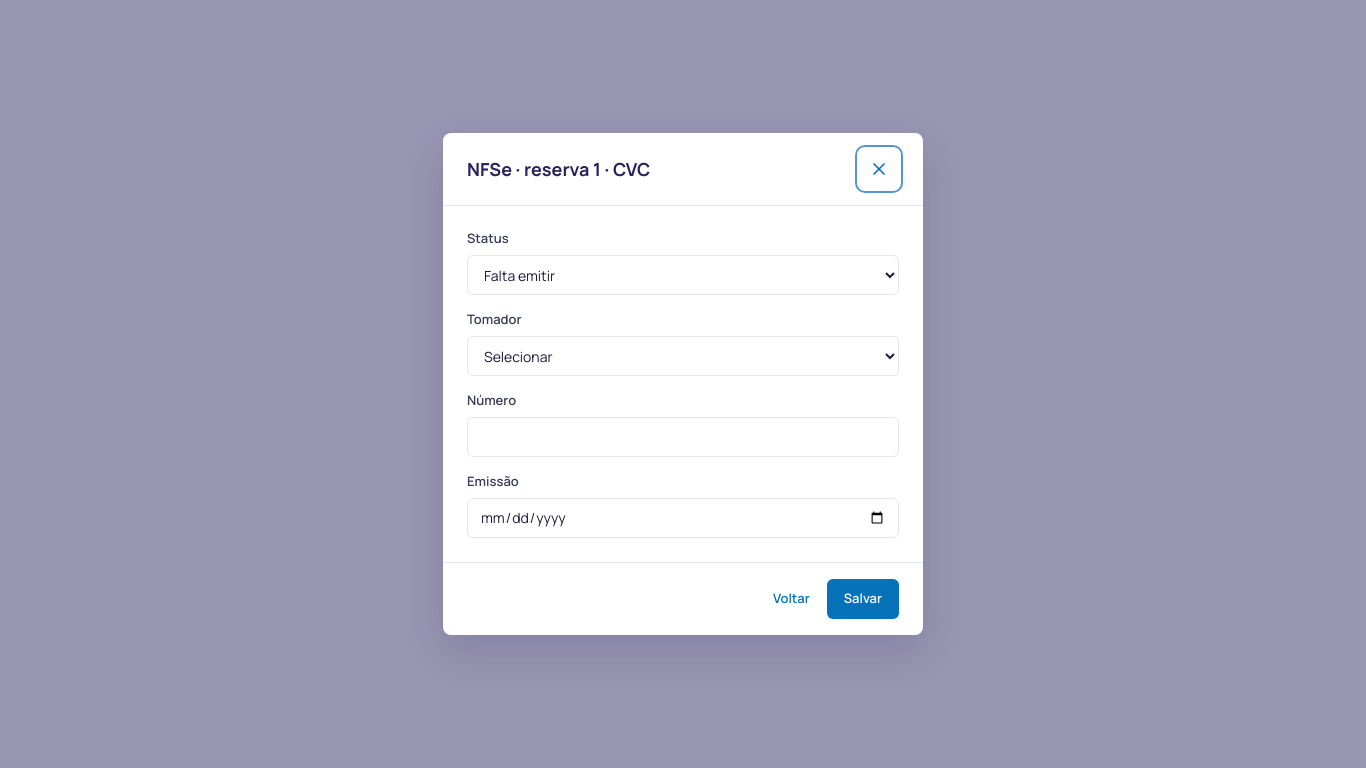
Scenario: 422 nfse_incompleta mostra a mensagem do servidor
Step 1. Select "Emitida" in the dropdown labelled "Status" → (683, 275), box [467,255,899,295]
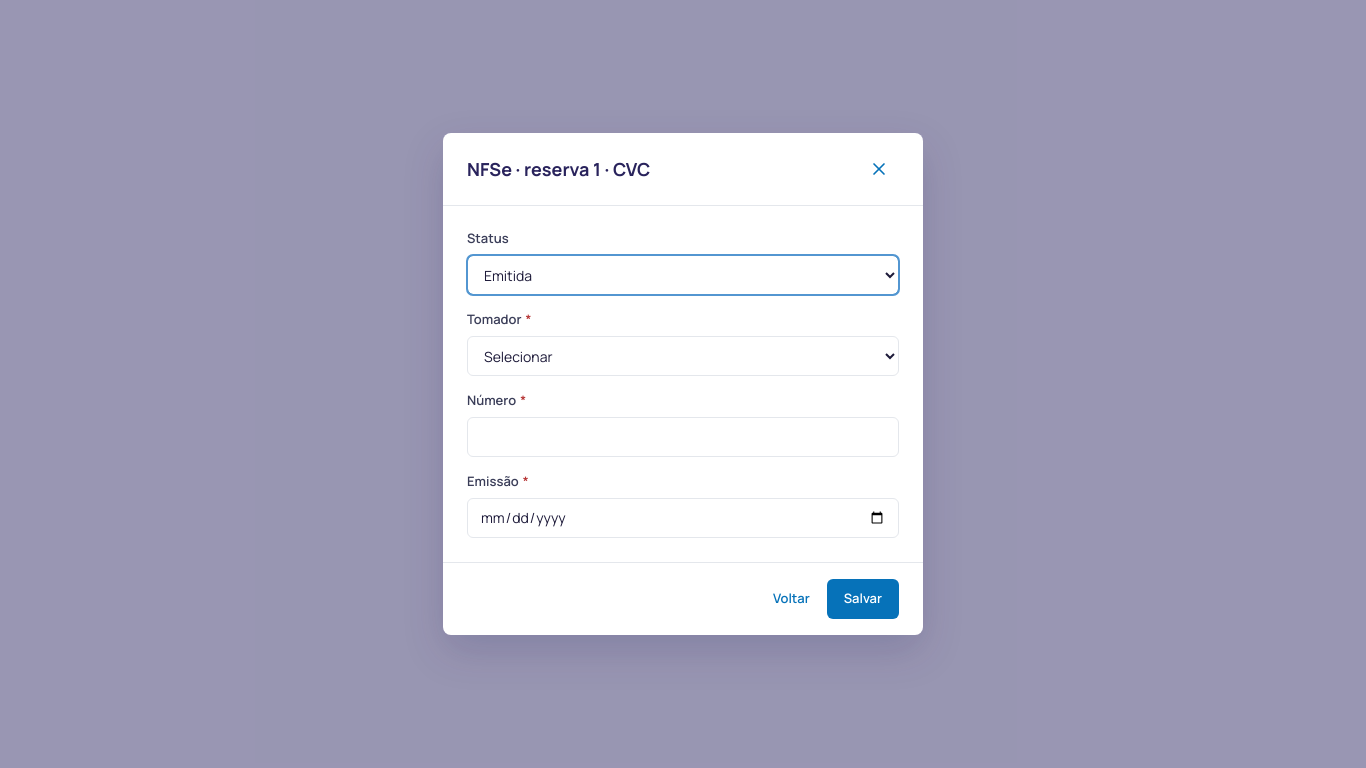
Step 2. Select "Operadora" in the dropdown labelled "Tomador *" → (683, 356), box [467,336,899,376]
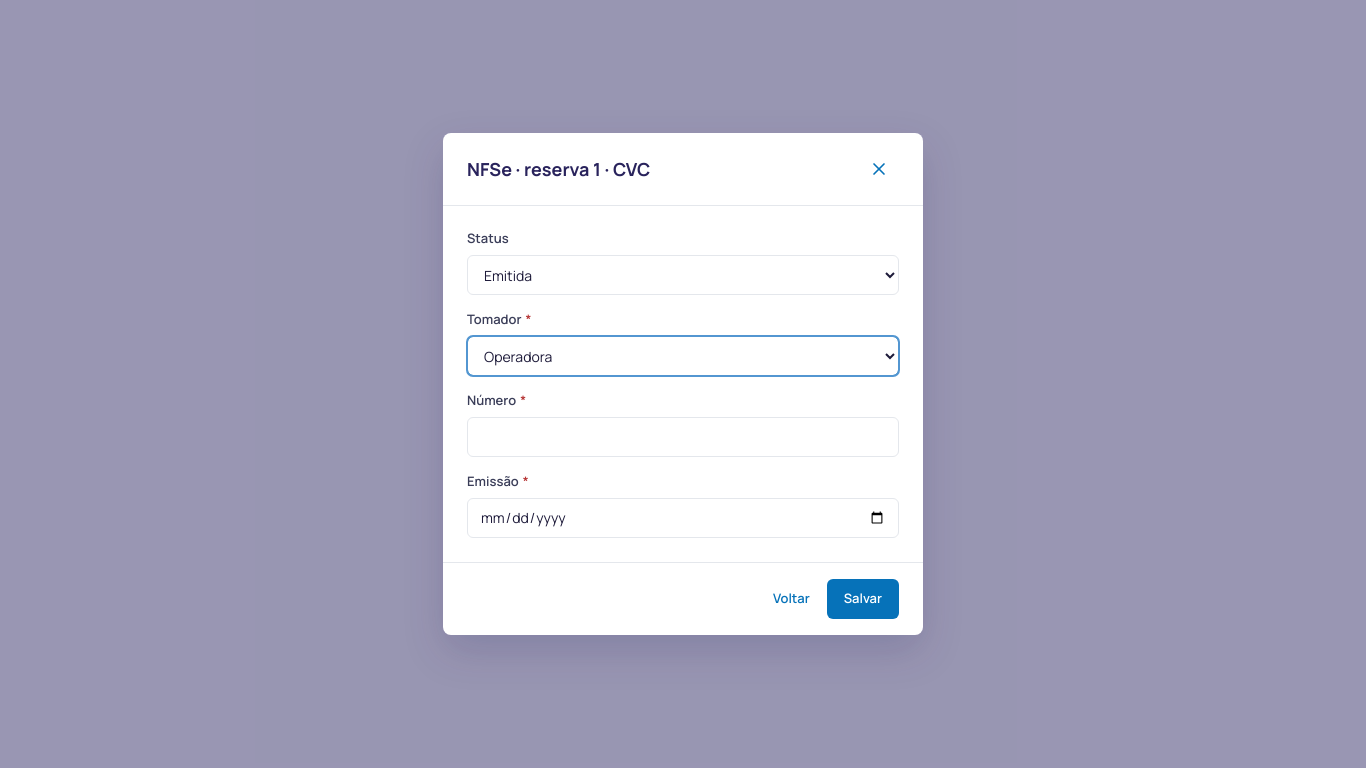
Step 3. Type "123" into the field labelled "Número *" → (683, 437), box [467,417,899,457]
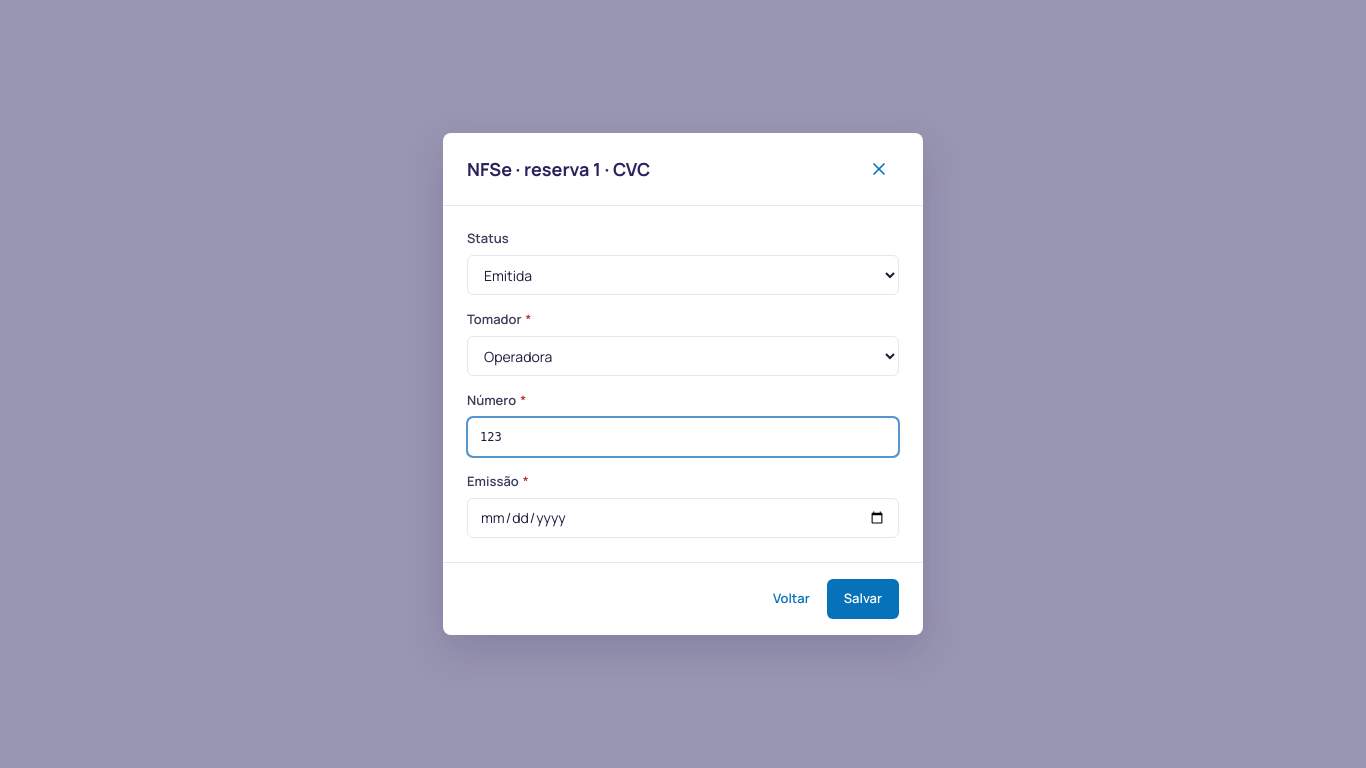
Step 4. Type "2026-01-10" into the date field labelled "Emissão *" → (683, 518), box [467,498,899,538]
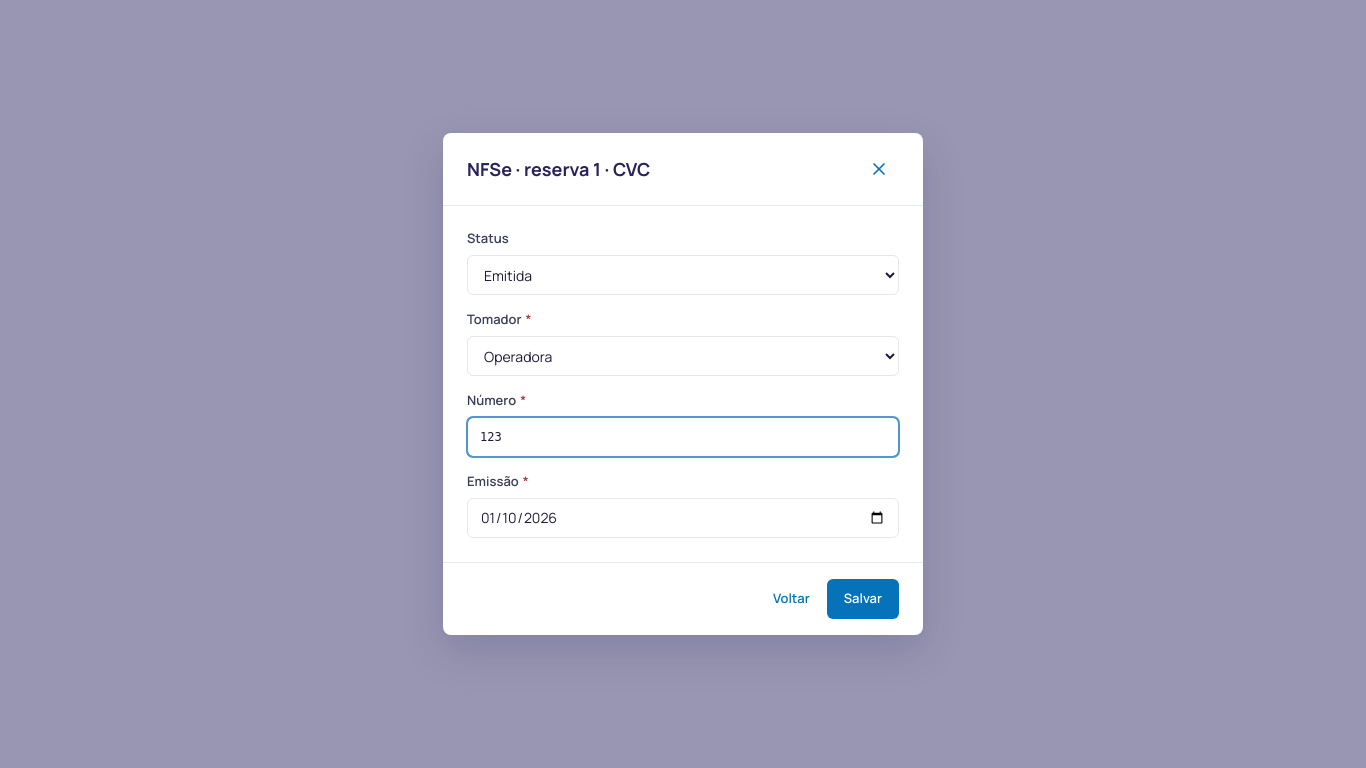
Step 5. Click the button "Salvar" → click(863, 599), box [827,579,899,619]
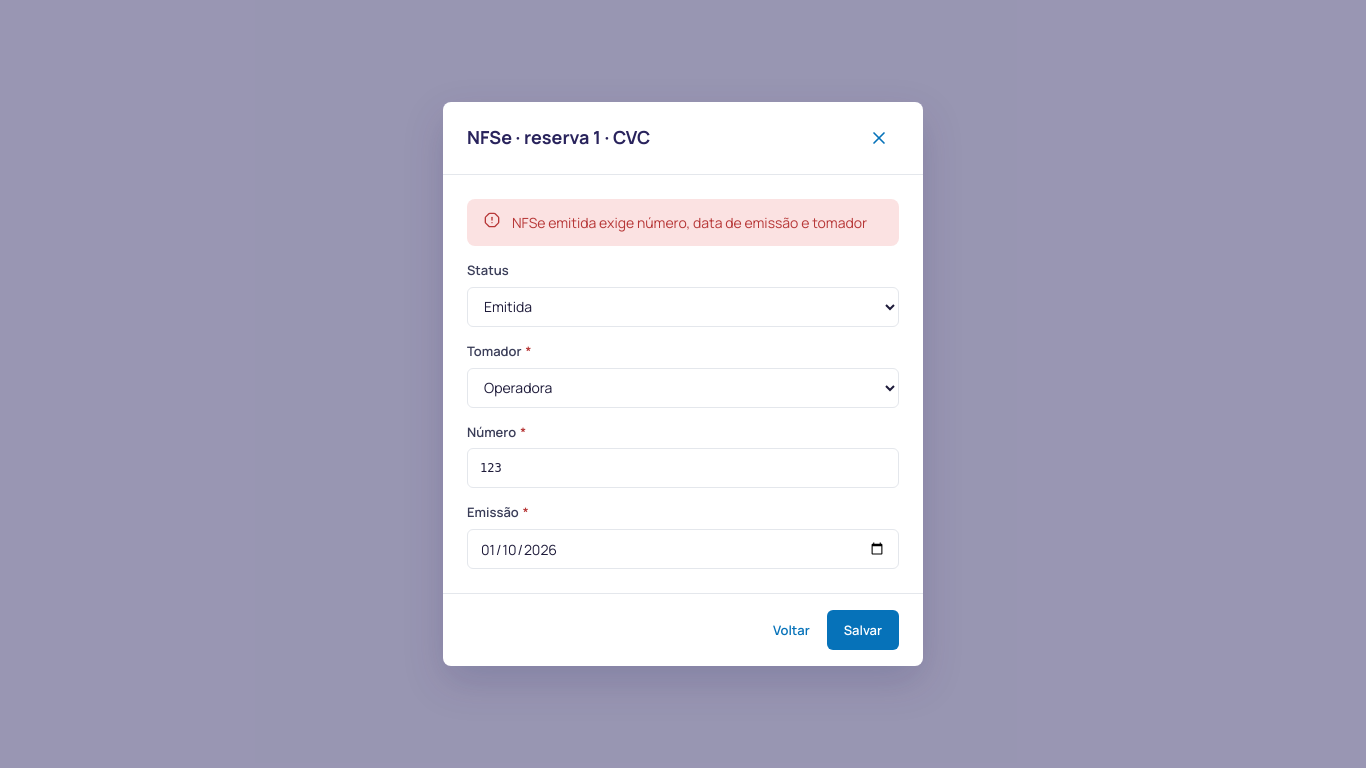
Expected: the text "NFSe emitida exige número, data de emissão e tomador" is shown, [512,212,882,233]
